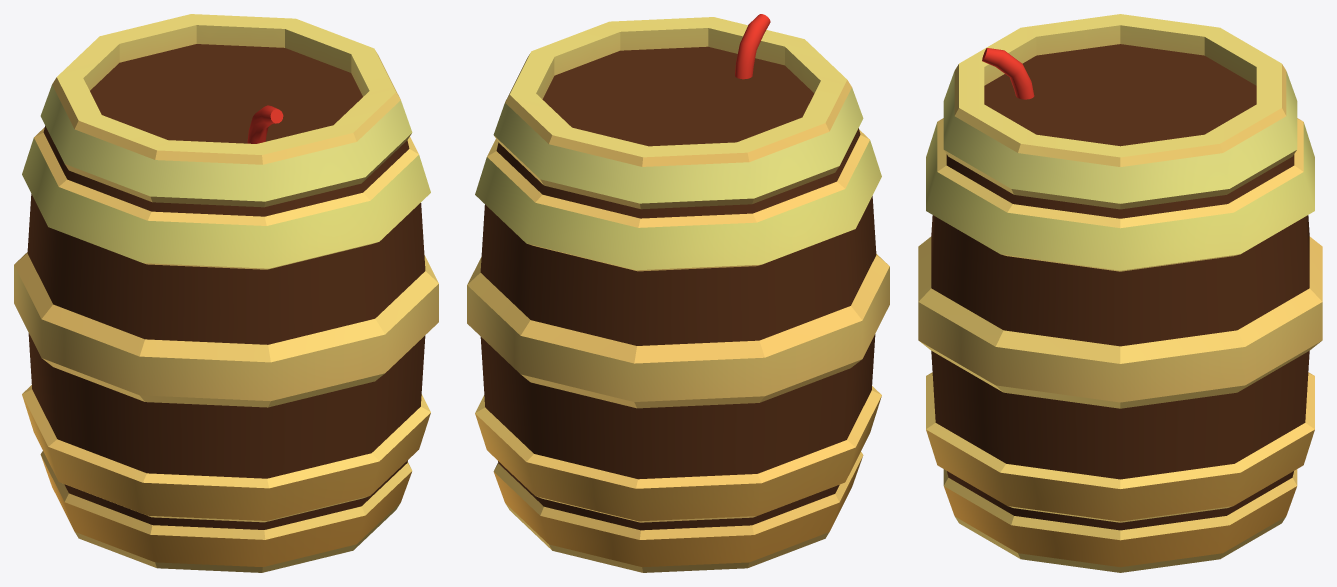
Rendered from DustBarrel.FBX.
The picture shows the model from 3 angles, left to right: view 1: azimuth 30°, elevation 25°; view 2: azimuth 150°, elevation 25°; view 3: azimuth 270°, elevation 25°; orthographic projection.
Visible parts, largest first — view 1: pasted__Barrel, pCylinder2; view 2: pasted__Barrel, pCylinder2; view 3: pasted__Barrel, pCylinder2.
Boxes of the visible parts, x1=… form: pasted__Barrel: x1=14, y1=14, x2=438, y2=572; pCylinder2: x1=247, y1=105, x2=283, y2=143; pasted__Barrel: x1=467, y1=17, x2=889, y2=572; pCylinder2: x1=735, y1=14, x2=770, y2=79; pasted__Barrel: x1=918, y1=14, x2=1322, y2=572; pCylinder2: x1=982, y1=48, x2=1034, y2=99.
Size of the model in its own units: 45.32 by 52.26 by 43.1.
